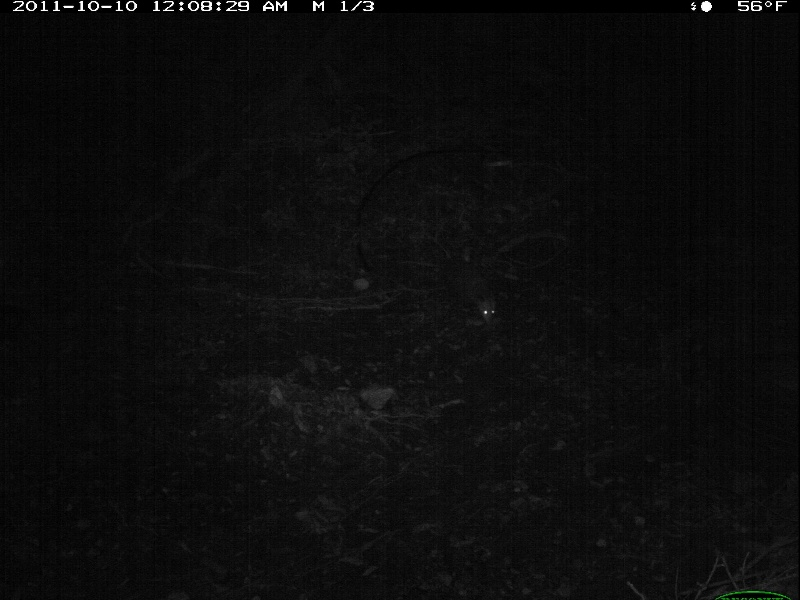opossum: (452, 291, 498, 328)
